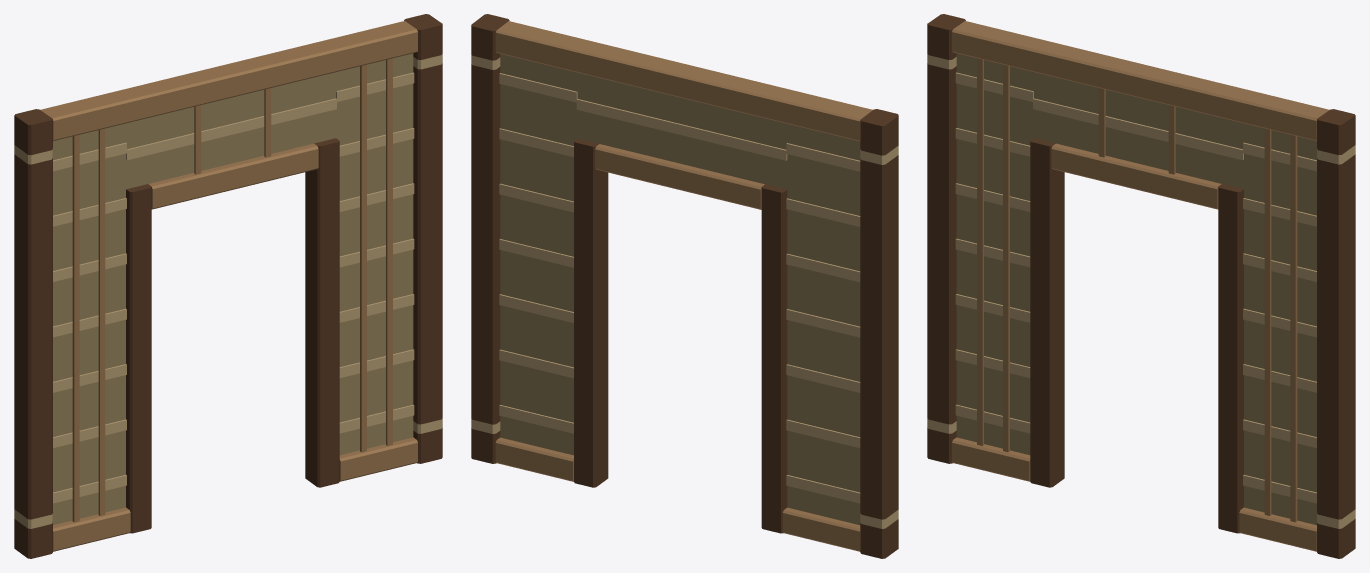
Rendered from wall_door.glb.
The picture shows the model from 3 angles, left to right: view 1: azimuth 30°, elevation 25°; view 2: azimuth 150°, elevation 25°; view 3: azimuth 330°, elevation 25°; orthographic projection.
Parts seen in each view (by area): view 1: wall_door_mesh; view 2: wall_door_mesh; view 3: wall_door_mesh.
Boxes of the visible parts, x1,y1,x2,y2 form: wall_door_mesh: (14, 14, 442, 558); wall_door_mesh: (471, 14, 898, 558); wall_door_mesh: (927, 14, 1355, 558).
Size of the model in its own units: 3 by 3 by 0.2.
